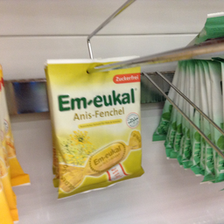candy: (44, 58, 147, 198)
